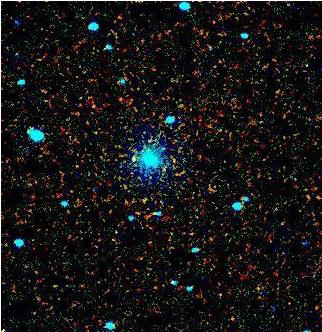star: (118, 143, 148, 173)
